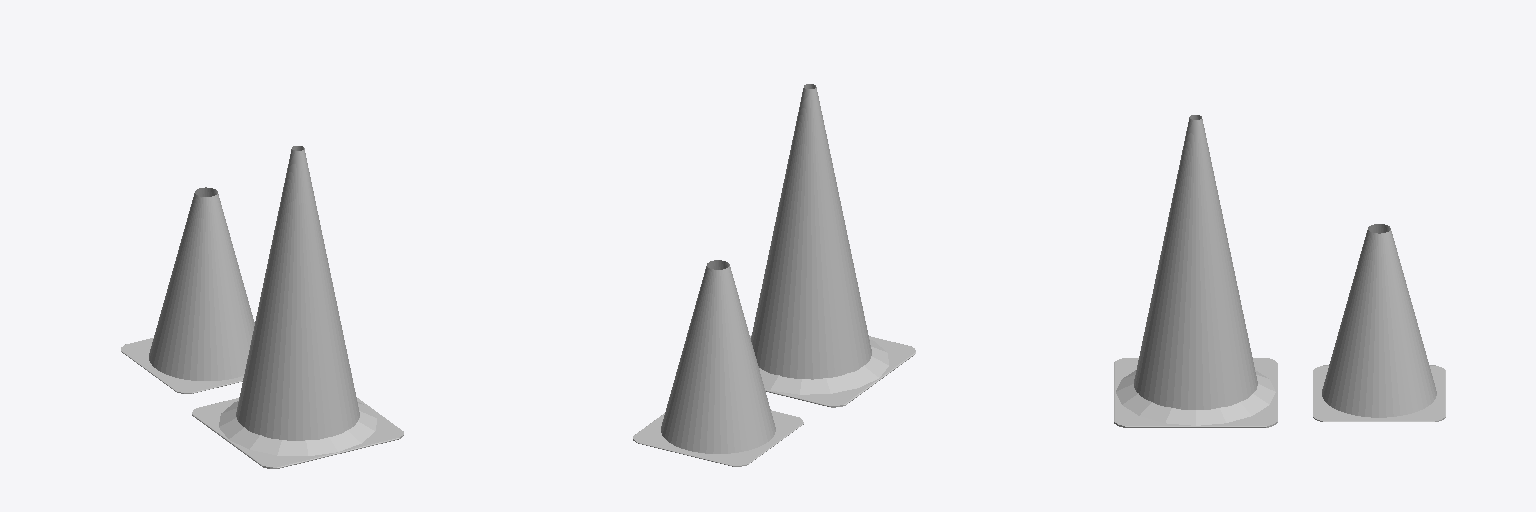
File: orange.obj
3 views of the same model, side by side, from view 1: azimuth 30°, elevation 25°; view 2: azimuth 150°, elevation 25°; view 3: azimuth 270°, elevation 25° (orthographic).
Parts seen in each view (by area): view 1: cone_big, Cone.1, Boole; view 2: cone_big, Cone.1, Boole; view 3: cone_big, Cone.1, Boole.
Boxes of the visible parts, x1,y1,x2,y2 form: cone_big: [192, 146, 403, 468]; Cone.1: [149, 187, 254, 380]; Boole: [121, 338, 243, 393]; cone_big: [750, 84, 915, 407]; Cone.1: [661, 260, 775, 453]; Boole: [633, 410, 803, 466]; cone_big: [1114, 115, 1277, 427]; Cone.1: [1322, 224, 1436, 417]; Boole: [1313, 365, 1445, 421].
Bounding box in the file's own units: 27 × 50.44 × 54.78.